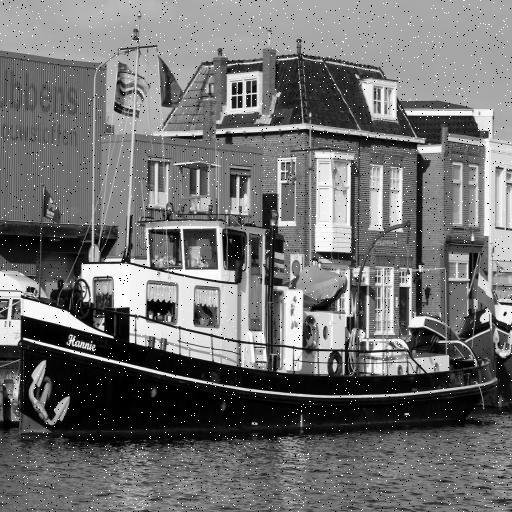tugboat: (18, 209, 500, 451)
